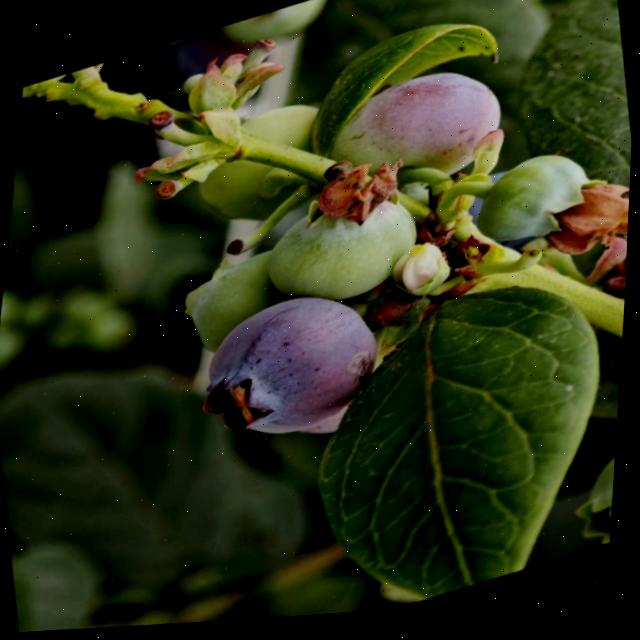Semi-RipeBlueBerry: (187, 271, 398, 463), (314, 52, 512, 216)
UnripeBlueBerry: (251, 166, 433, 327), (465, 146, 600, 273)
